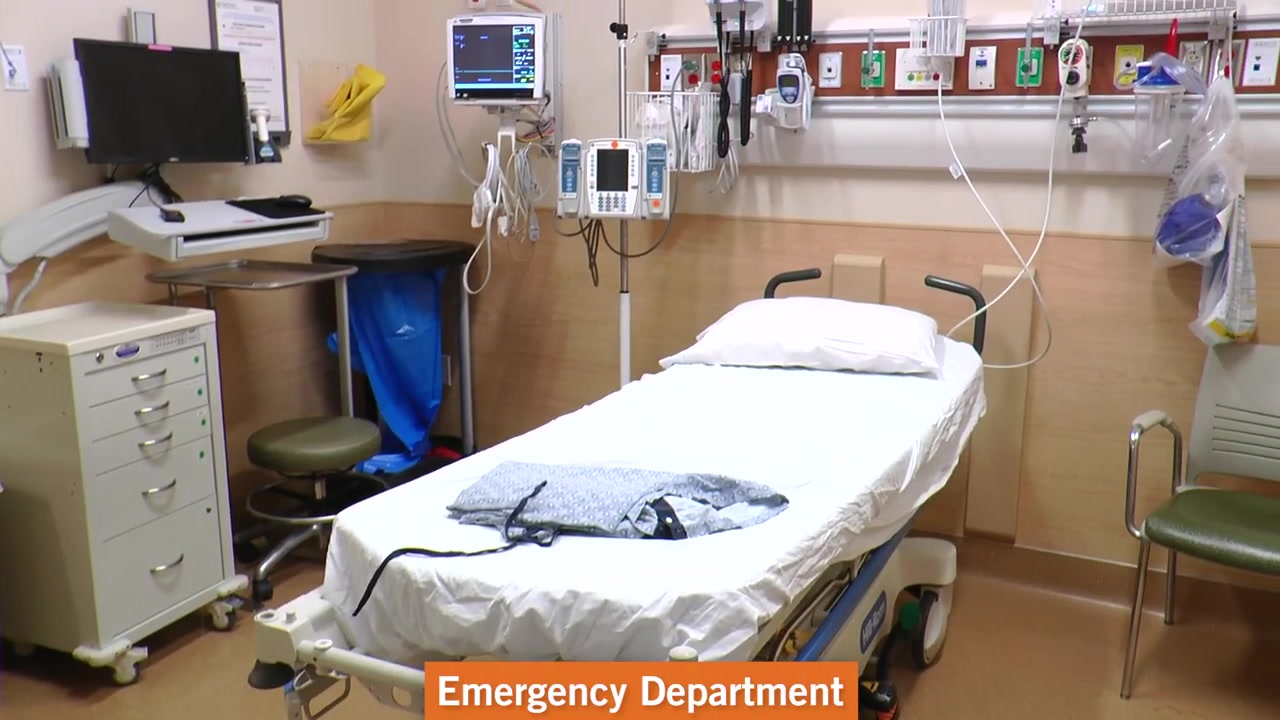bedside_monitor: (445, 15, 546, 107)
chair: (1117, 341, 1280, 698), (234, 415, 395, 602)
computer: (72, 39, 255, 163)
handle: (150, 552, 185, 573), (141, 478, 177, 496), (137, 431, 174, 448), (130, 367, 169, 383), (134, 401, 170, 415)
hospital_bed: (247, 270, 988, 716)
infusion_pump: (556, 132, 674, 222)
iv_pole: (613, 1, 638, 380)
medical_drawer: (1, 298, 242, 684)
mouse: (275, 194, 313, 208)
utility_cart: (144, 258, 363, 561)
waste_bin: (307, 239, 483, 469)
